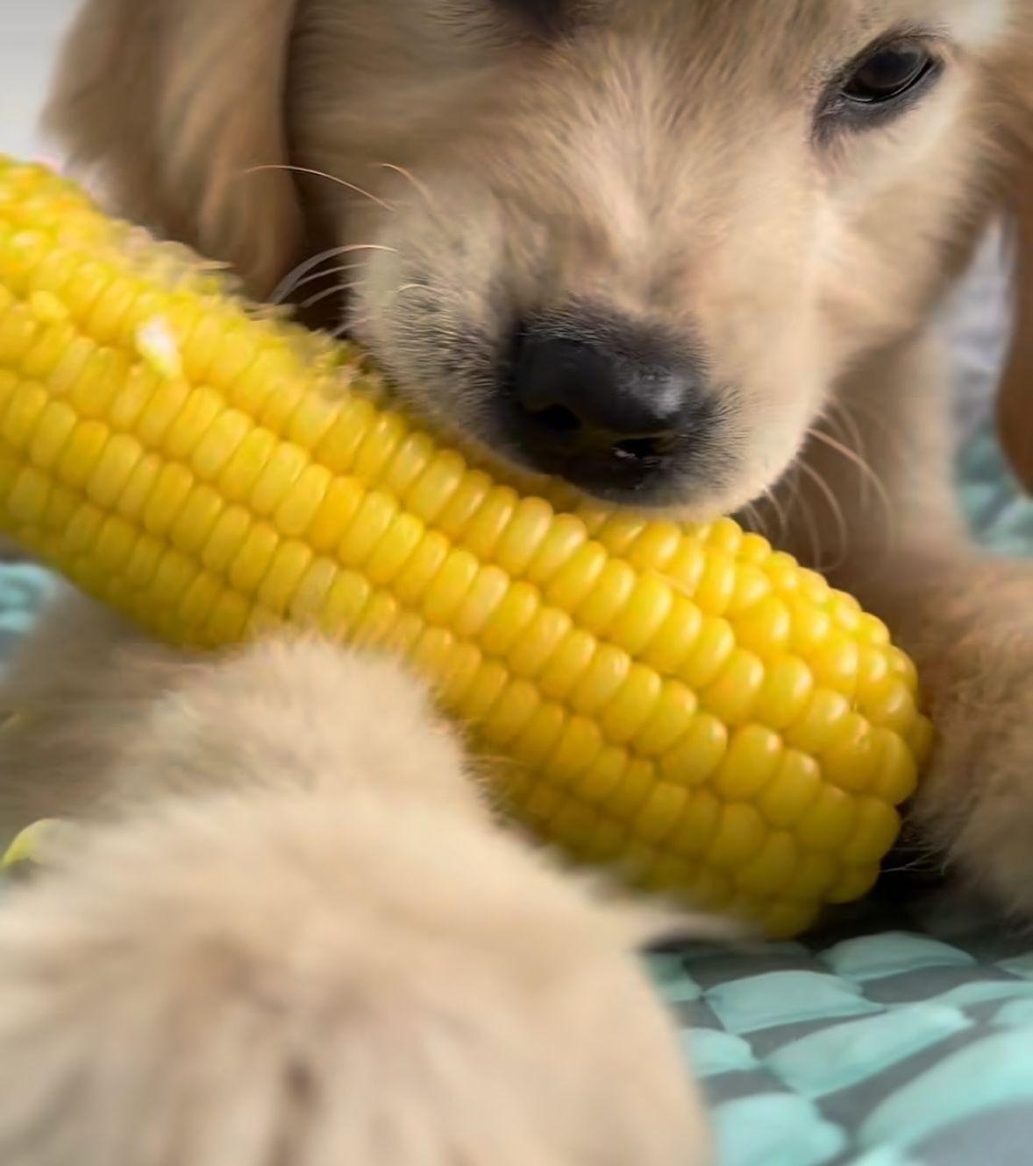non-dog: (0, 155, 940, 941)
puppy-dog: (0, 0, 1033, 1166)
